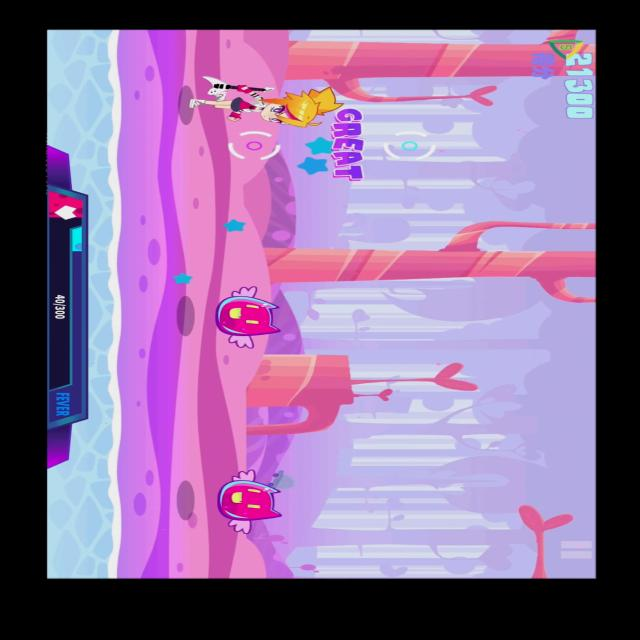Ground Monster - Red Devil: (204, 468, 288, 540), (205, 286, 282, 352)
